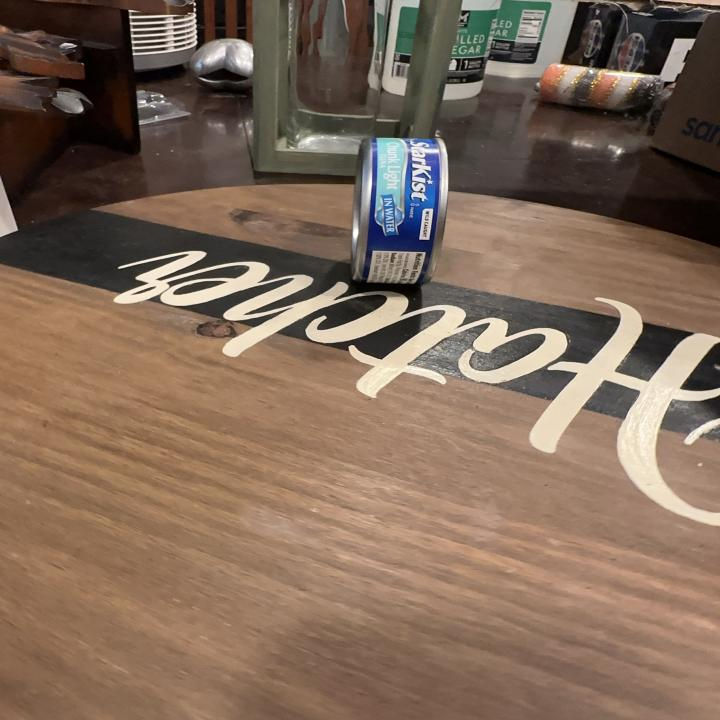Canned-Tuna: (348, 134, 451, 287)
